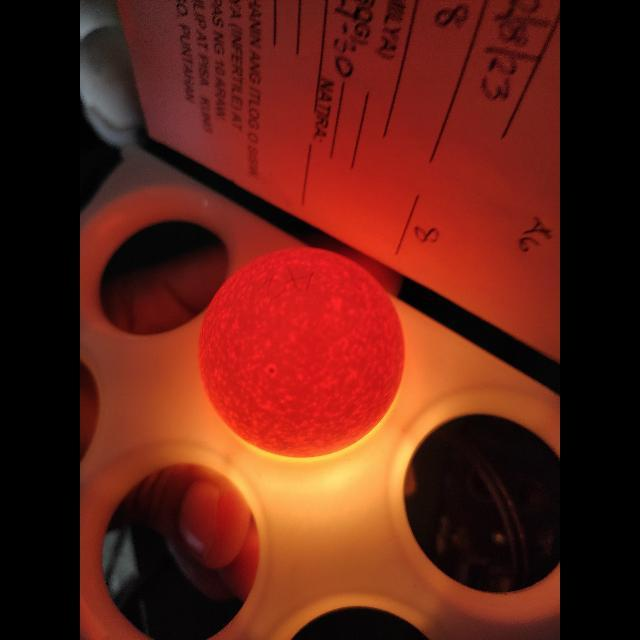Infertile: (190, 245, 402, 452)
